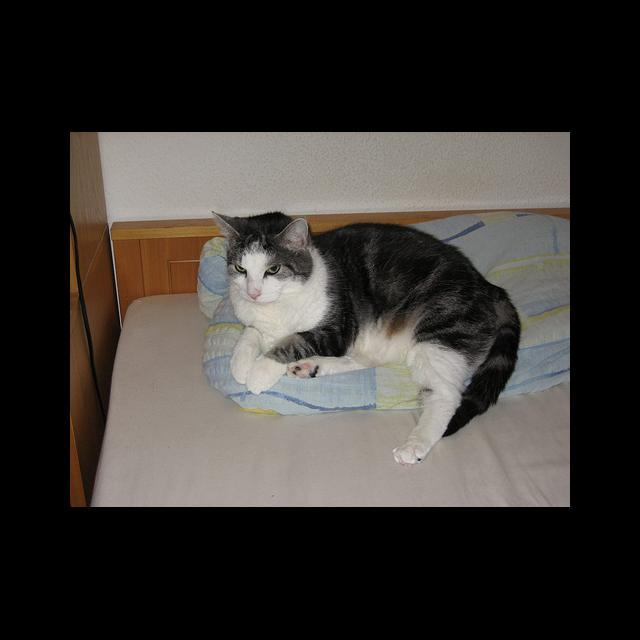animals: (212, 212, 303, 298)
